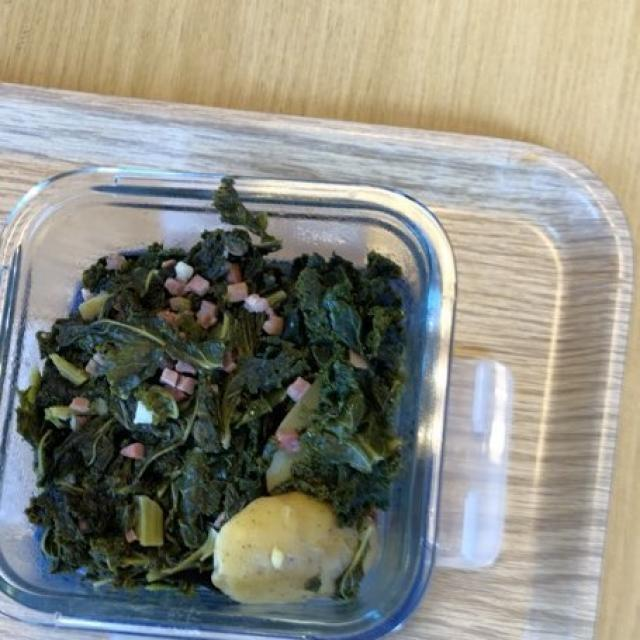bacon: (153, 261, 318, 446)
cabbage: (25, 206, 404, 599)
potatoes: (207, 496, 345, 606)
